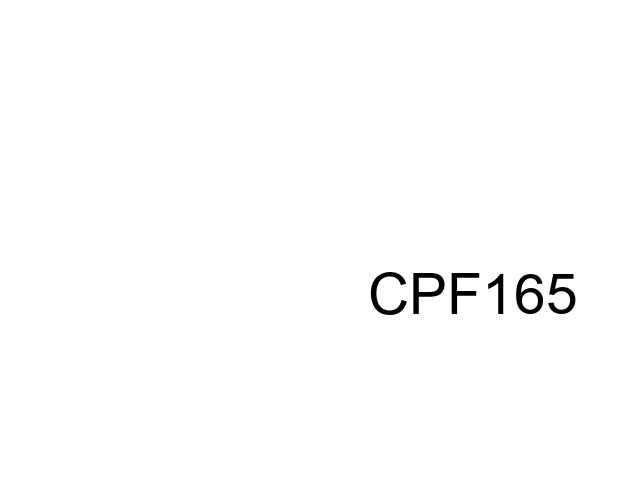OCR_AREA: (364, 268, 582, 319)
